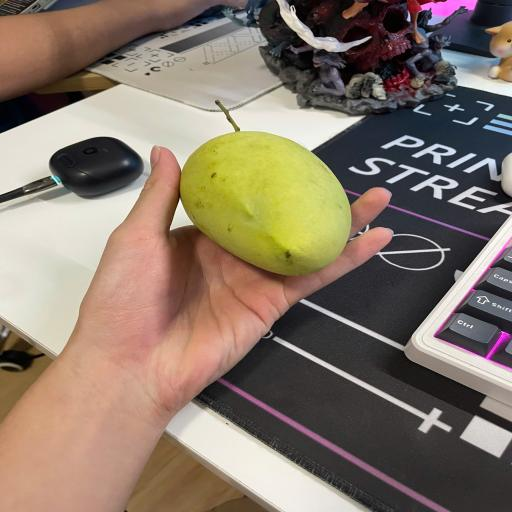xoai: (180, 111, 351, 276)
